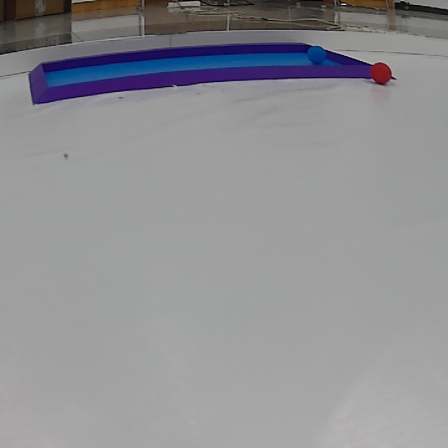blue: (306, 43, 329, 67)
blue_aim: (23, 42, 379, 103)
red: (368, 59, 393, 86)
